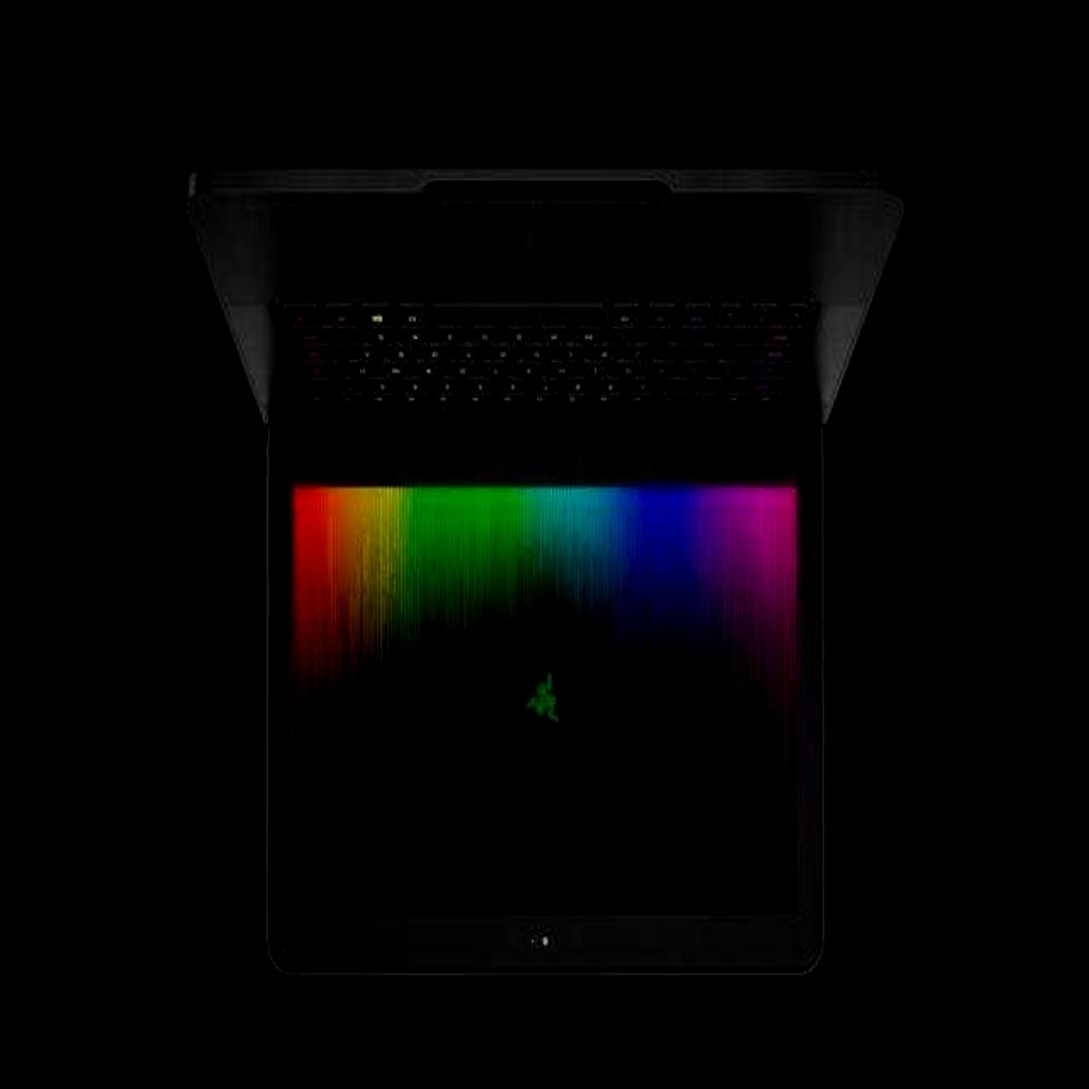laptop: (194, 100, 909, 999)
